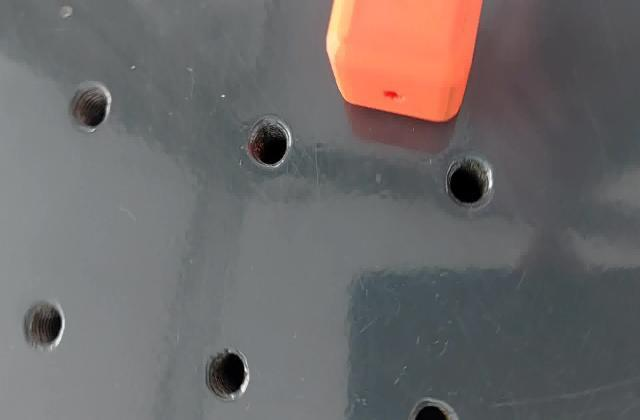cube: (321, 1, 486, 126)
